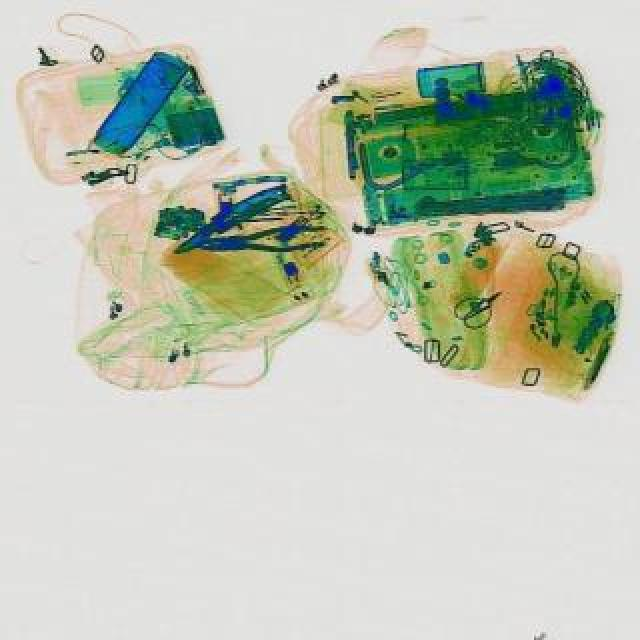wrench: (196, 226, 326, 260)
